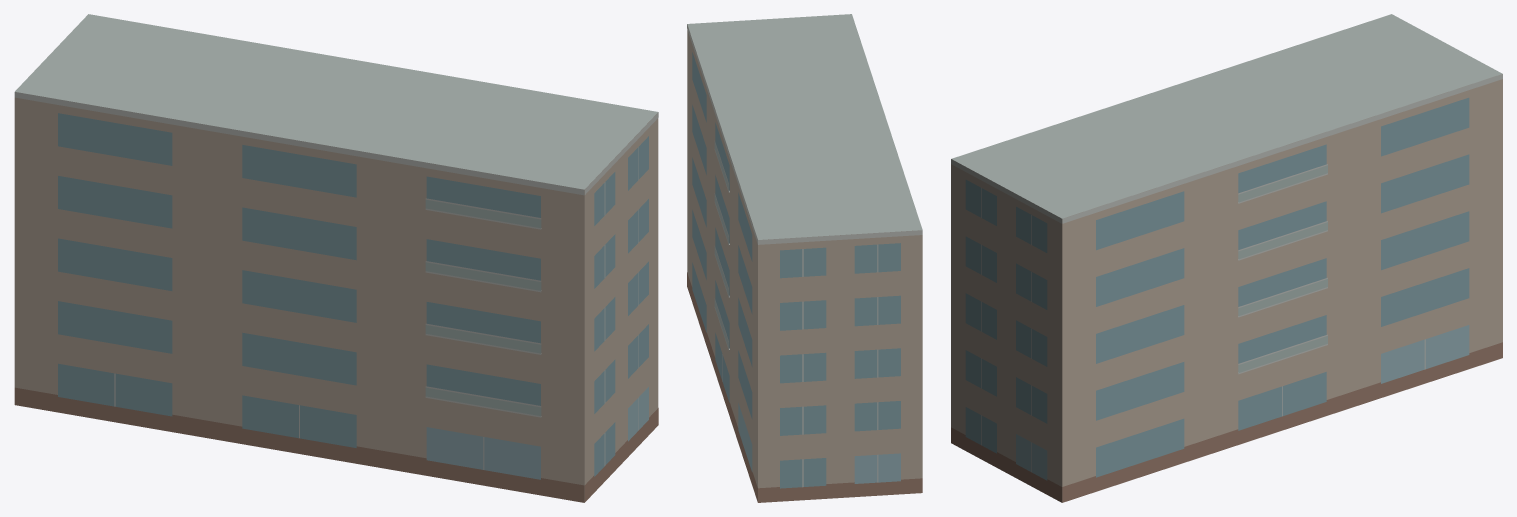
The model's file is survey-upis-32748683.glb.
3 views of the same model, side by side, from view 1: azimuth 30°, elevation 25°; view 2: azimuth 150°, elevation 25°; view 3: azimuth 270°, elevation 25° (orthographic). The views are drawn at different scales.
Parts seen in each view (by area): view 1: survey-upis-32748683.tmp; view 2: survey-upis-32748683.tmp; view 3: survey-upis-32748683.tmp.
Boxes of the visible parts, bbox=[...] form: survey-upis-32748683.tmp: bbox=[14, 14, 658, 502]; survey-upis-32748683.tmp: bbox=[687, 14, 922, 502]; survey-upis-32748683.tmp: bbox=[951, 14, 1502, 502].
Bounding box in the file's own units: 20.55 × 13.3 × 23.41.
